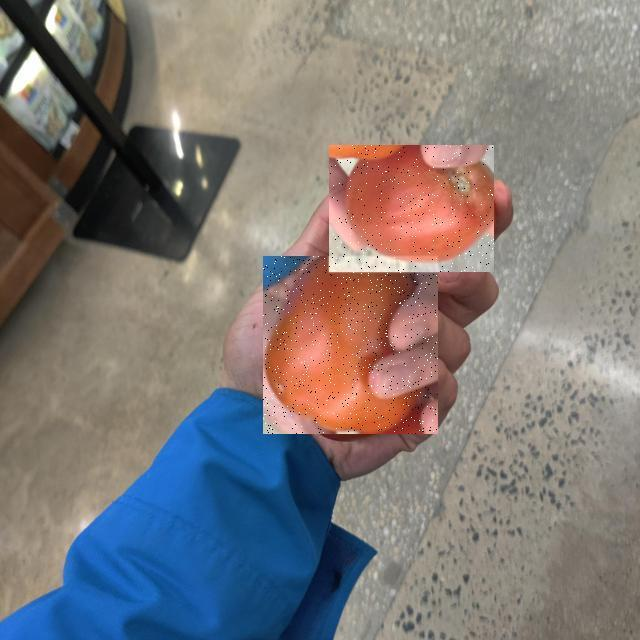Tomatoes: (263, 256, 438, 434), (329, 145, 494, 272)
